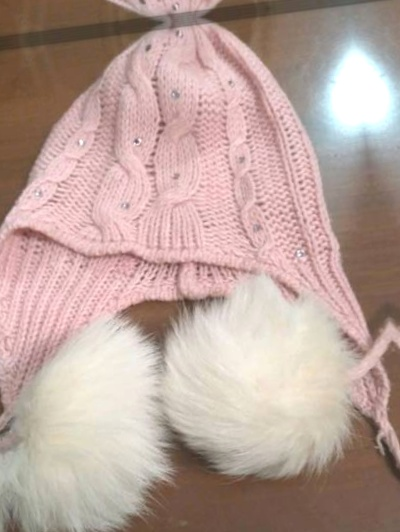Hat: (0, 0, 400, 532), (350, 0, 400, 499), (0, 0, 345, 47), (0, 52, 7, 532)
